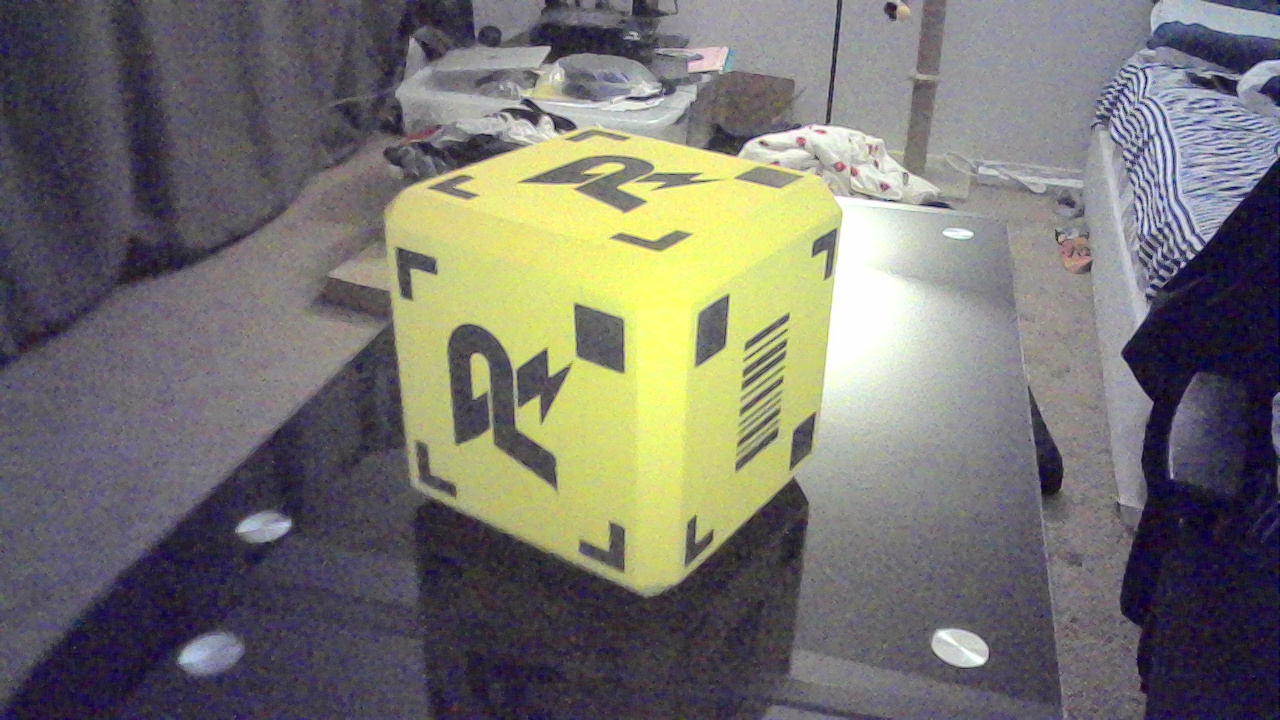Barcode: (741, 316, 797, 486)
R: (445, 316, 595, 512), (525, 153, 735, 224)
